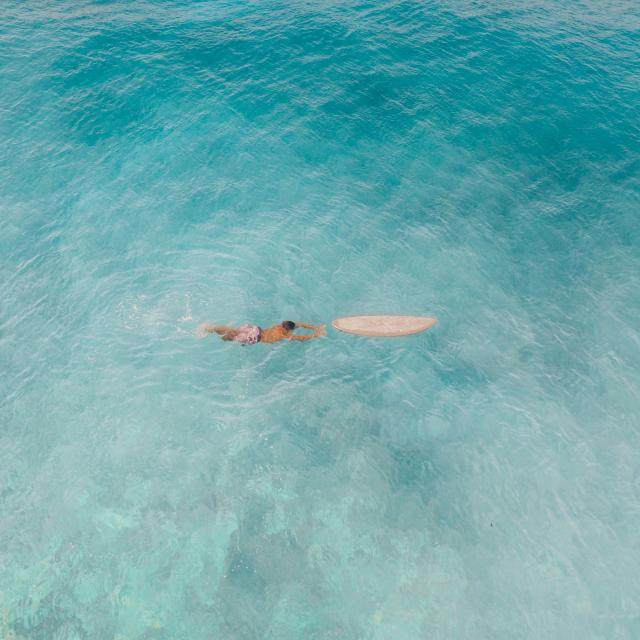lie: (187, 310, 328, 343)
